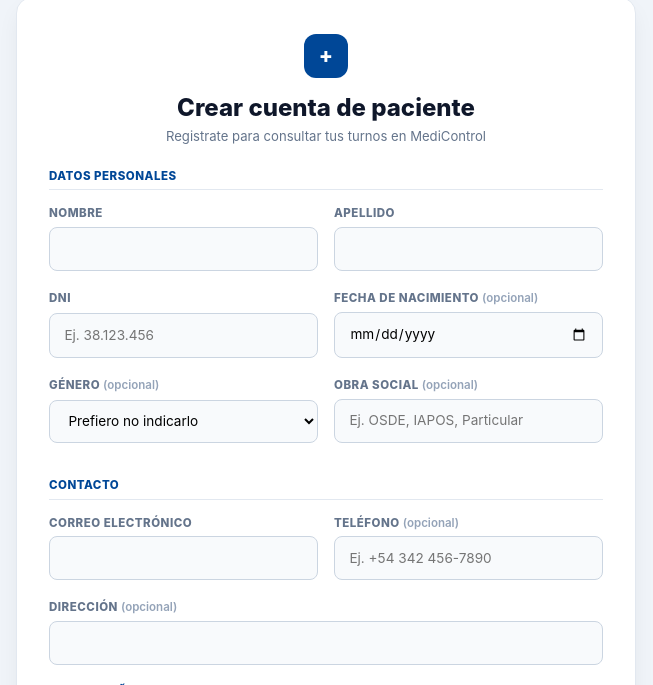
Test case: Registro público de pacientes › envía los datos sin rol y vuelve al login con el aviso de cuenta creada
Expected: the heading "Crear cuenta de paciente" is shown, [177,93,475,122]
Type "Lucía" into the field labelled "Nombre" at (184, 249), box [49,227,318,271]
Type "Paz" into the field labelled "Apellido" at (468, 249), box [334,227,603,271]
Type "38123456" into the field named "dni" at (184, 336), box [49,313,318,358]
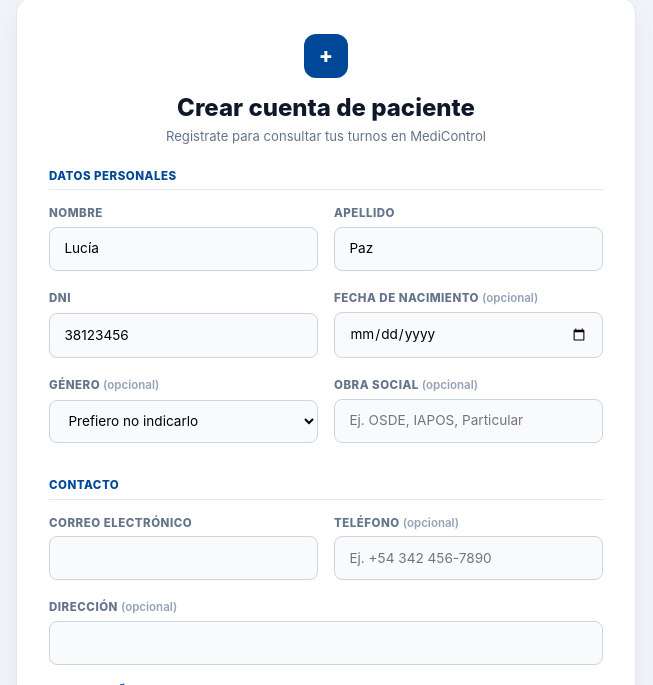
Type "lucia@demo.test" into the field labelled "Correo electrónico" at (184, 558), box [49,536,318,580]
(page scrolled)
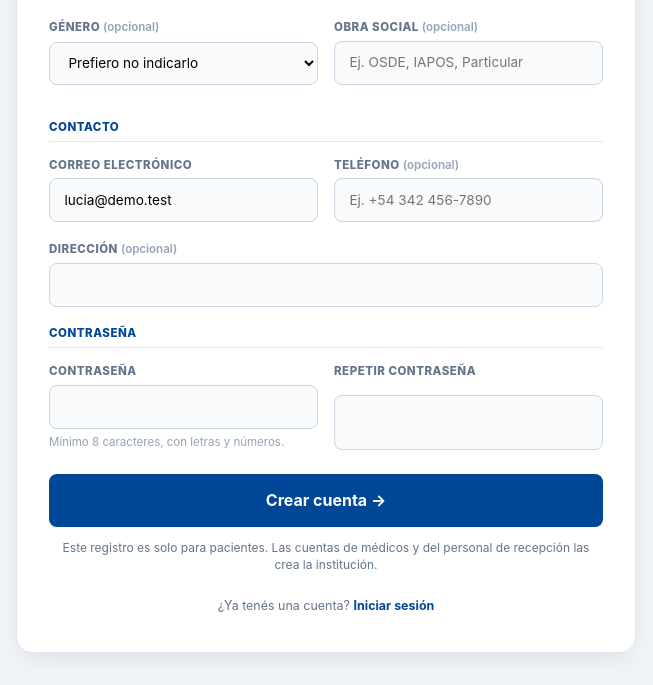
Type "Registro2026" into the password field named "contrasena" at (184, 407), box [49,385,318,429]
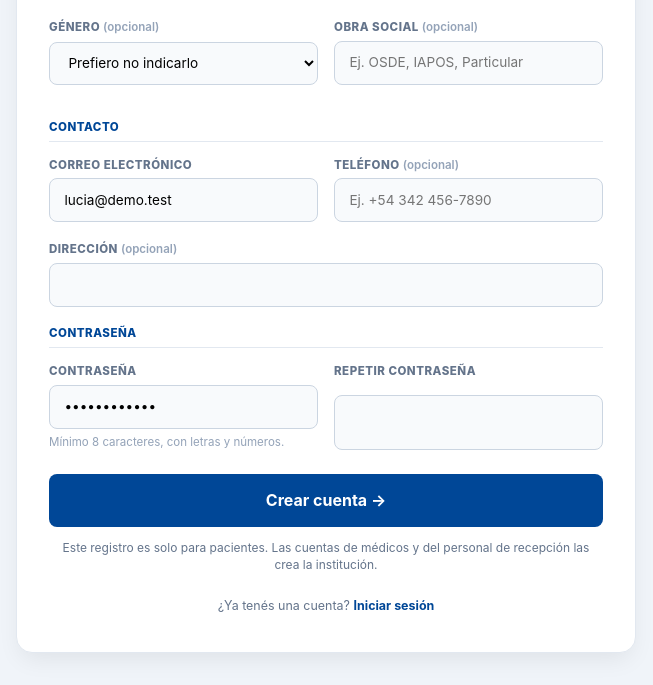
Type "Registro2026" into the password field named "contrasena_confirmacion" at (468, 423), box [334,395,603,450]
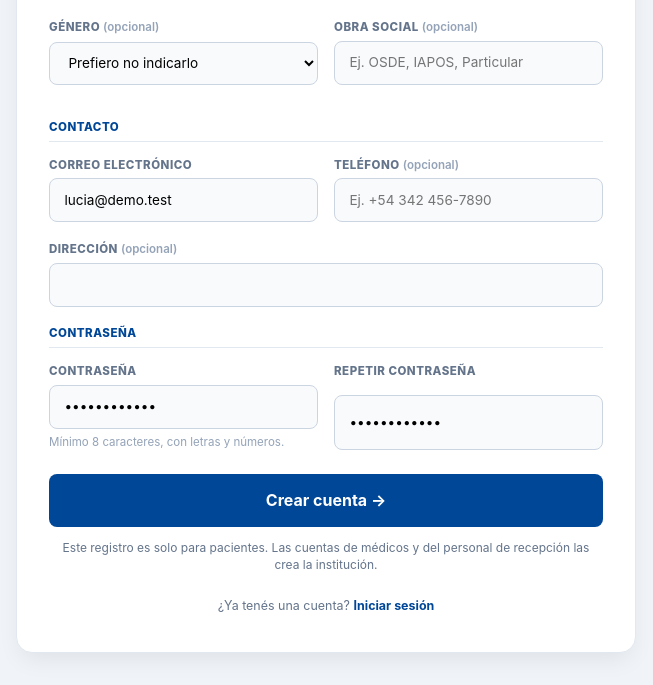
Type "OSDE" into the field labelled "Obra social (opcional)" at (468, 63), box [334,41,603,85]
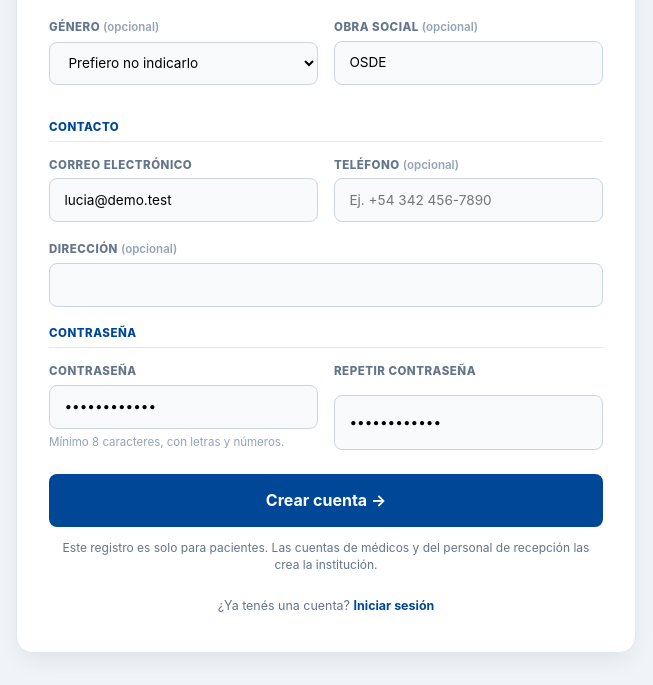
Click the button "Crear cuenta →" at (326, 500), box [49,474,603,527]
(page scrolled)
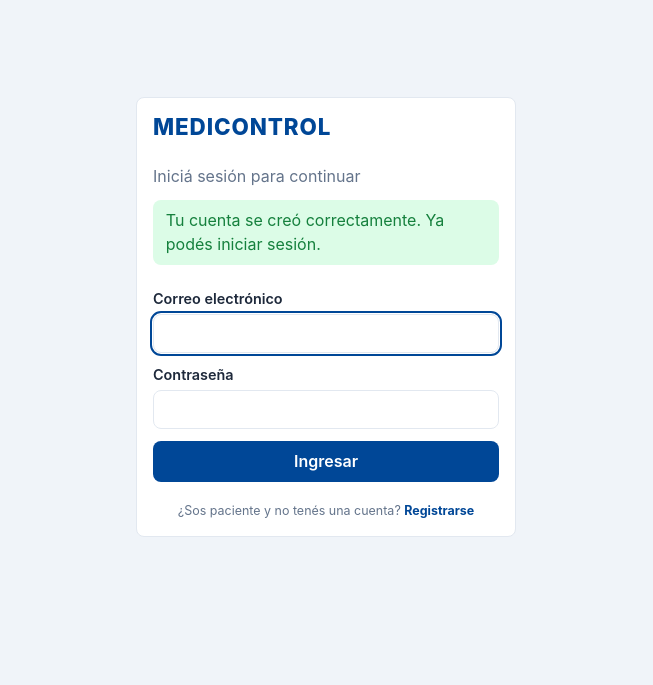
Expected: the text "Tu cuenta se creó correctamente. Ya podés iniciar sesión." is shown, [153,200,499,266]
